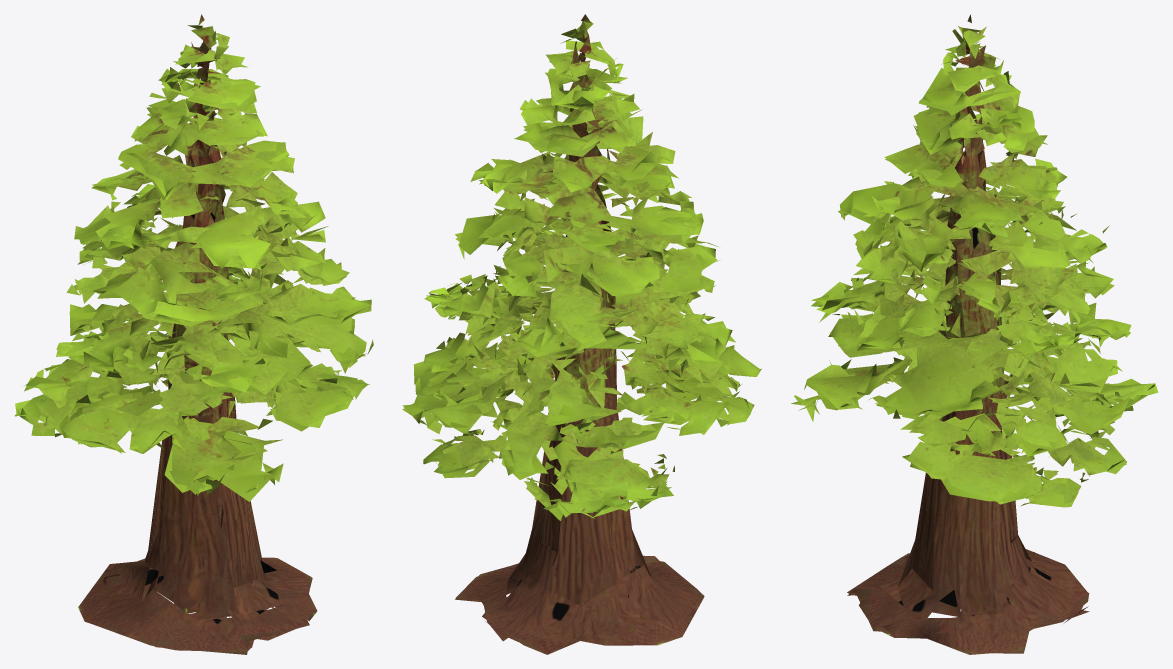
File: Redwood.glb
3 views of the same model, side by side, from view 1: azimuth 30°, elevation 25°; view 2: azimuth 150°, elevation 25°; view 3: azimuth 270°, elevation 25° (orthographic).
Parts seen in each view (by area): view 1: Mesh0; view 2: Mesh0; view 3: Mesh0.
Boxes of the visible parts, box(x1,y1,x2,y2) form: Mesh0: box(14, 14, 373, 654); Mesh0: box(402, 14, 761, 654); Mesh0: box(791, 14, 1158, 654).
Size of the model in its own units: 1.1 by 1.97 by 1.11.
1 material, 1 textured.
